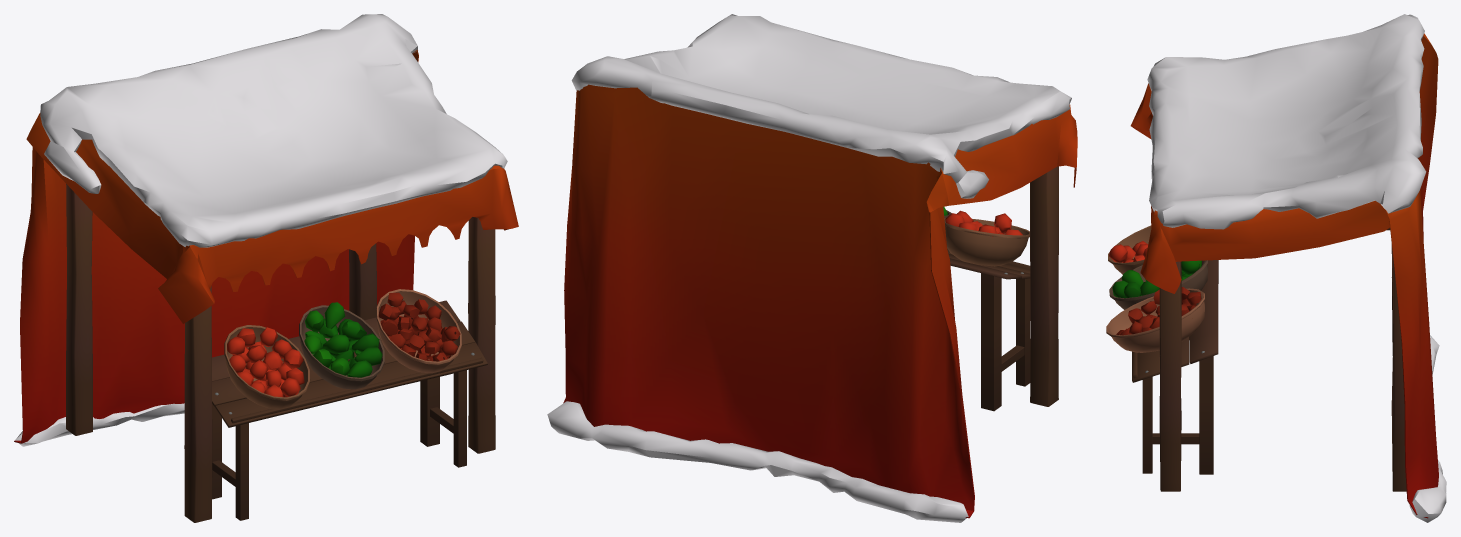
The model's file is TentSnowy_3.fbx.
3 renders of one model, left to right at view 1: azimuth 30°, elevation 25°; view 2: azimuth 150°, elevation 25°; view 3: azimuth 270°, elevation 25°, orthographic. The views are drawn at different scales.
Parts seen in each view (by area): view 1: TentSnowy_3; view 2: TentSnowy_3; view 3: TentSnowy_3.
Part boxes in pixels (<box>): TentSnowy_3: <box>14,14,518,522</box>; TentSnowy_3: <box>547,14,1077,522</box>; TentSnowy_3: <box>1106,14,1446,522</box>.
Size of the model in its own units: 252 by 215 by 192.
